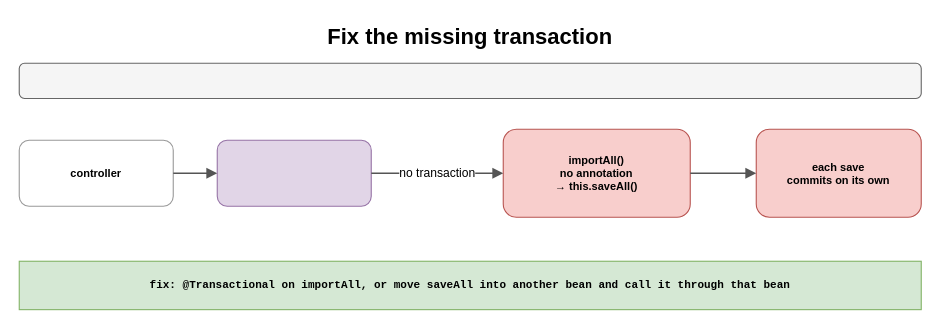
Some shapes in this 941 by 329 pixel diagram are drawn without their labels. Here are the shapes that lost their labels. From the top down, the centre of each, then its label:
the point at 469,80: importAll calls saveAll on the same object: no proxy, no transaction
the point at 293,172: ImportService proxy
